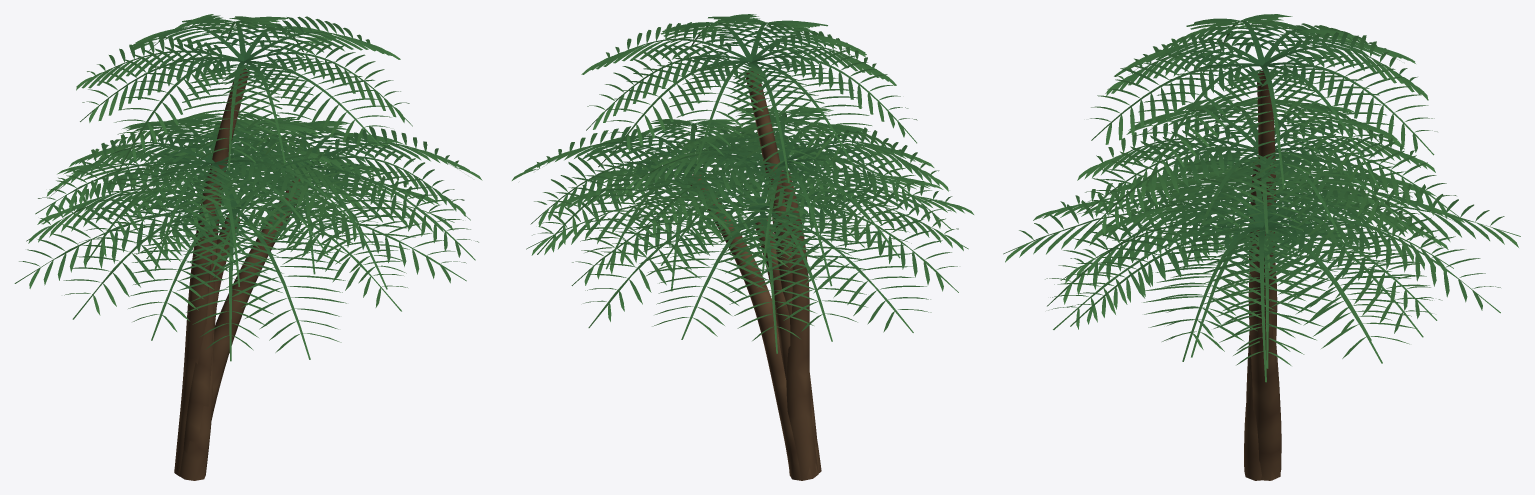
Rendered from palm_library_lod0.glb.
The picture shows the model from 3 angles, left to right: view 1: azimuth 30°, elevation 25°; view 2: azimuth 150°, elevation 25°; view 3: azimuth 270°, elevation 25°; orthographic projection. The views are drawn at different scales.
Visible parts, largest first — view 1: GEO_palm_wide_fronds_lod0, GEO_palm_upright_fronds_lod0, GEO_palm_tall_fronds_lod0, GEO_palm_leaning_fronds_lod0, GEO_palm_tall_trunk_lod0, GEO_palm_upright_trunk_lod0, GEO_palm_leaning_trunk_lod0, GEO_palm_wide_trunk_lod0; view 2: GEO_palm_wide_fronds_lod0, GEO_palm_tall_fronds_lod0, GEO_palm_upright_fronds_lod0, GEO_palm_leaning_fronds_lod0, GEO_palm_upright_trunk_lod0, GEO_palm_leaning_trunk_lod0, GEO_palm_tall_trunk_lod0, GEO_palm_wide_trunk_lod0; view 3: GEO_palm_leaning_fronds_lod0, GEO_palm_tall_fronds_lod0, GEO_palm_upright_fronds_lod0, GEO_palm_wide_fronds_lod0, GEO_palm_leaning_trunk_lod0, GEO_palm_wide_trunk_lod0, GEO_palm_tall_trunk_lod0.
Boxes of the visible parts, bbox=[...] form: GEO_palm_wide_fronds_lod0: bbox=[14, 145, 466, 361]; GEO_palm_upright_fronds_lod0: bbox=[35, 113, 377, 286]; GEO_palm_tall_fronds_lod0: bbox=[76, 14, 412, 172]; GEO_palm_leaning_fronds_lod0: bbox=[137, 117, 482, 289]; GEO_palm_tall_trunk_lod0: bbox=[181, 69, 248, 480]; GEO_palm_upright_trunk_lod0: bbox=[174, 173, 220, 476]; GEO_palm_leaning_trunk_lod0: bbox=[174, 176, 300, 474]; GEO_palm_wide_trunk_lod0: bbox=[177, 214, 240, 480]; GEO_palm_wide_fronds_lod0: bbox=[526, 135, 973, 353]; GEO_palm_tall_fronds_lod0: bbox=[581, 14, 917, 182]; GEO_palm_upright_fronds_lod0: bbox=[609, 107, 952, 286]; GEO_palm_leaning_fronds_lod0: bbox=[512, 119, 874, 291]; GEO_palm_upright_trunk_lod0: bbox=[781, 170, 818, 480]; GEO_palm_leaning_trunk_lod0: bbox=[690, 174, 818, 480]; GEO_palm_tall_trunk_lod0: bbox=[746, 71, 817, 446]; GEO_palm_wide_trunk_lod0: bbox=[755, 216, 821, 475]; GEO_palm_leaning_fronds_lod0: bbox=[1060, 165, 1453, 382]; GEO_palm_tall_fronds_lod0: bbox=[1090, 14, 1437, 188]; GEO_palm_upright_fronds_lod0: bbox=[1077, 95, 1458, 270]; GEO_palm_wide_fronds_lod0: bbox=[1003, 154, 1520, 368]; GEO_palm_leaning_trunk_lod0: bbox=[1248, 232, 1281, 480]; GEO_palm_wide_trunk_lod0: bbox=[1244, 230, 1277, 480]; GEO_palm_tall_trunk_lod0: bbox=[1246, 70, 1275, 401].
Size of the model in its own units: 9.06 by 8.33 by 8.64.
